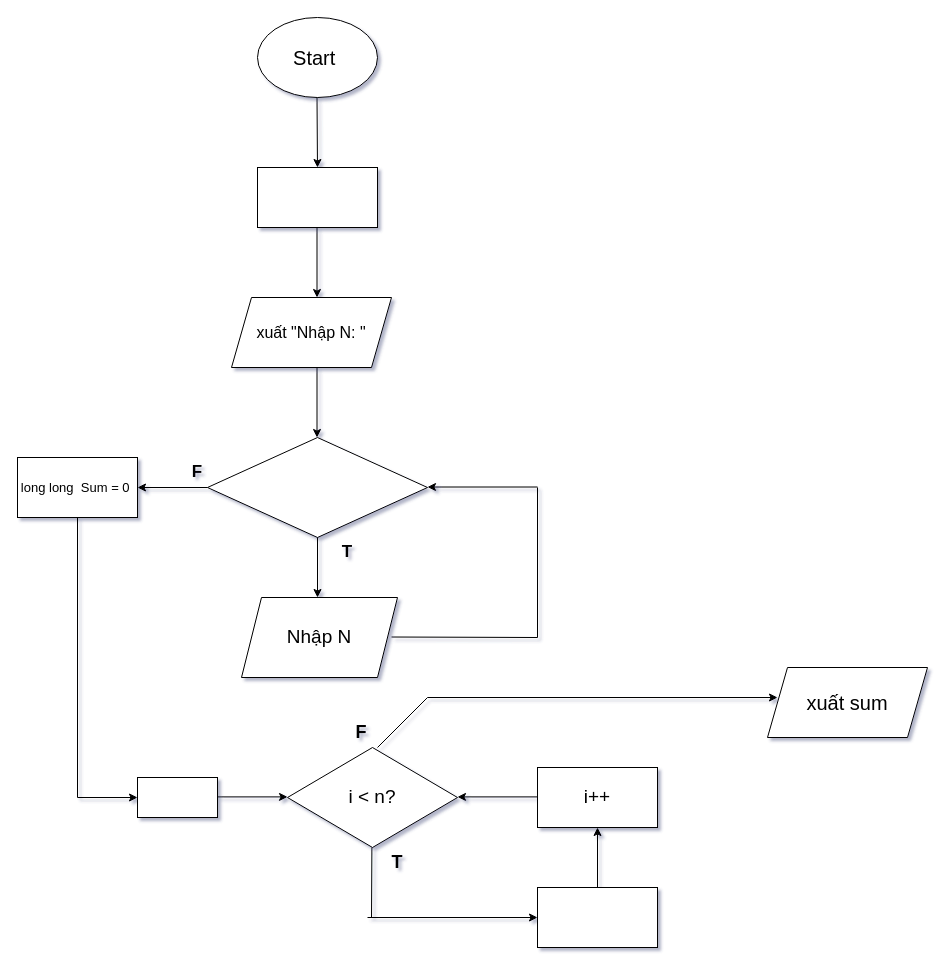
This 951x971 diagram has some shape labels left out. Here are the shapes that lost their labels. From the top down, the centre of each, then its label:
At (317,197): "int N".
At (317,487): "N < 0?".
At (177,797): "i = 1".
At (597,917): "s+=giaithua(i)".
